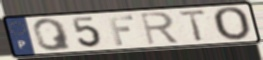5: (71, 15, 104, 49)
F: (106, 14, 136, 47)
O: (211, 6, 253, 42)
Q: (31, 17, 74, 52)
R: (138, 11, 182, 47)
T: (178, 9, 209, 43)
